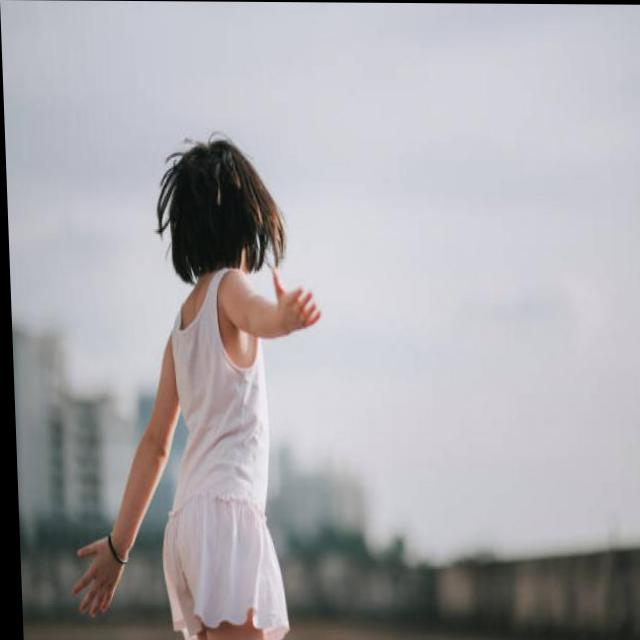no helmet: (131, 109, 298, 323)
